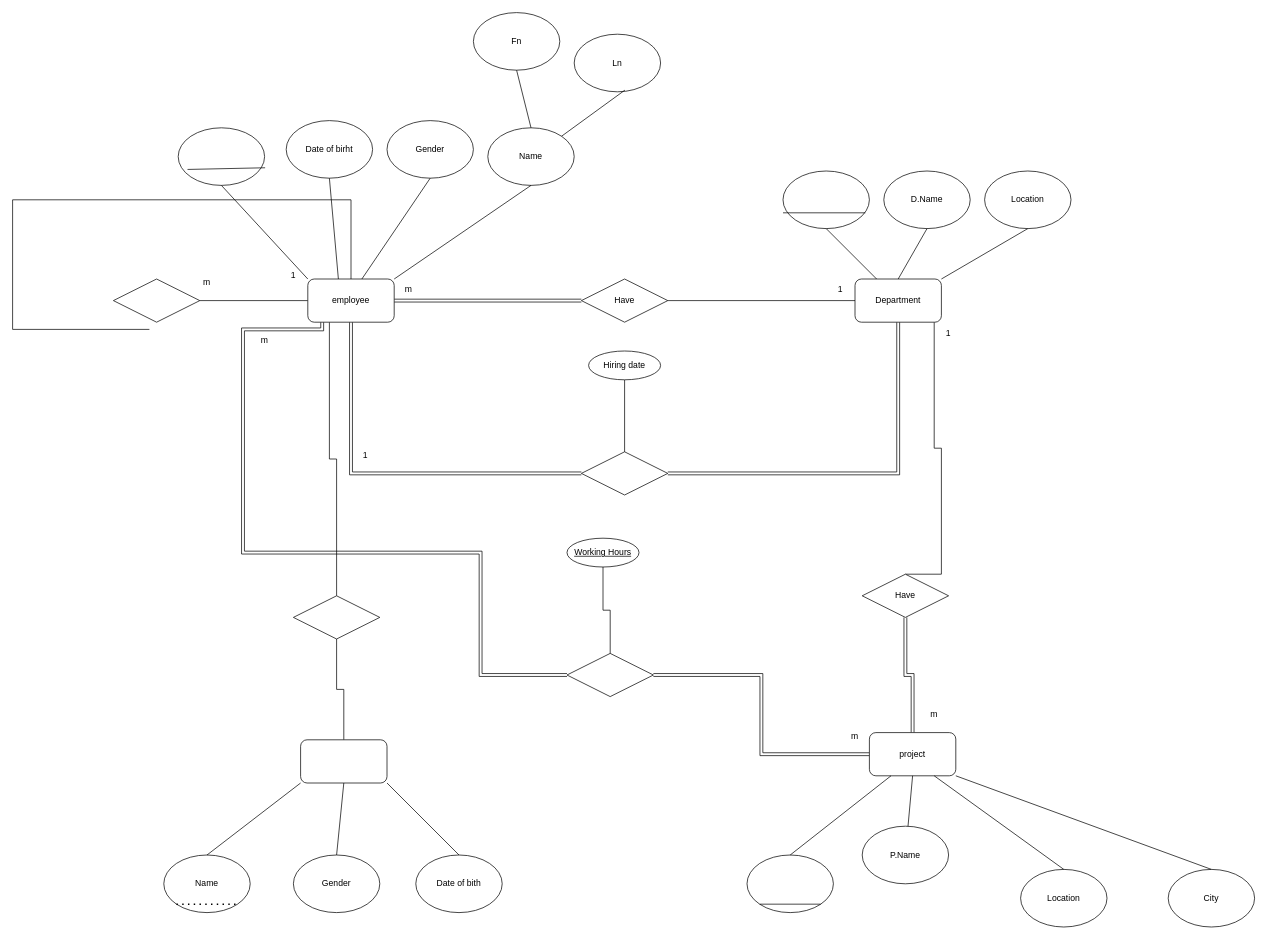
The diagram is 1267 pixels wide and 940 high, and some of its shapes have lost their labels. Each missing label, with the box of its shape:
D.NUMBER: (782, 170, 869, 229)
dependancy: (300, 739, 387, 783)
Has: (293, 595, 380, 639)
Mnange: (581, 451, 668, 495)
P.Number: (746, 854, 833, 913)
ssn: (177, 127, 265, 185)
Supervisor: (113, 278, 200, 322)
work: (566, 653, 653, 697)
